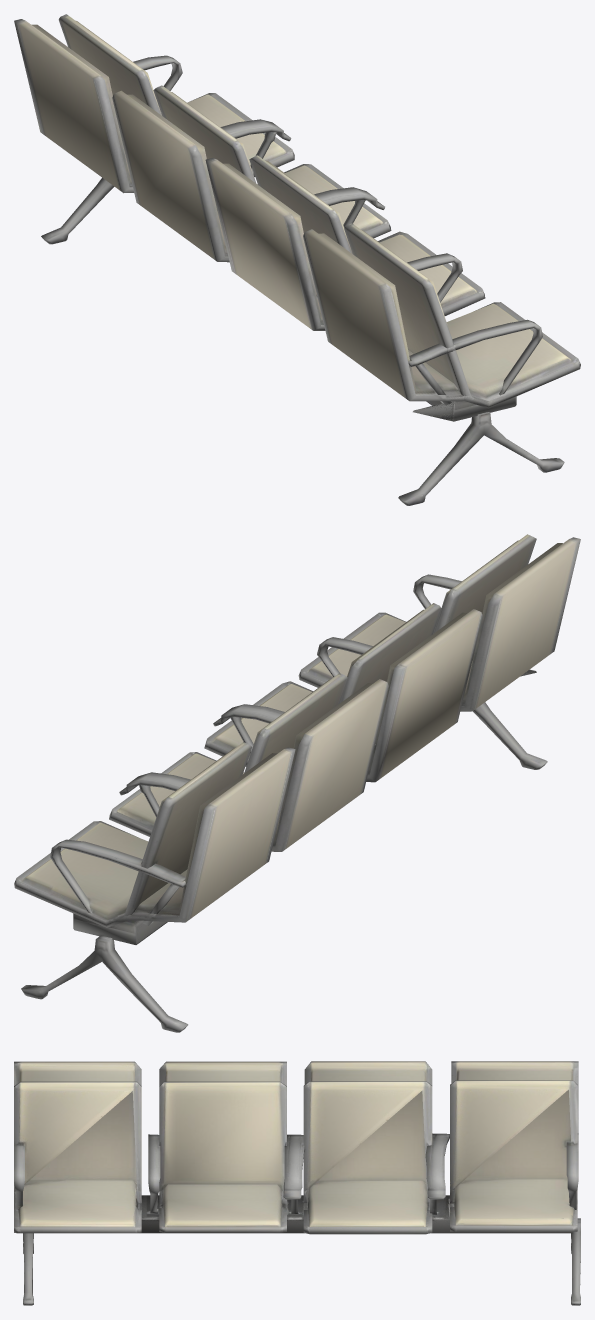
The model's file is gate-seats.glb.
3 views of the same model, one above another, from view 1: azimuth 30°, elevation 25°; view 2: azimuth 150°, elevation 25°; view 3: azimuth 270°, elevation 25° (orthographic). The views are drawn at different scales.
Visible parts, largest first — view 1: tripo_node_bc5cb187-3da9-43ca-b2db-853662c11dd2; view 2: tripo_node_bc5cb187-3da9-43ca-b2db-853662c11dd2; view 3: tripo_node_bc5cb187-3da9-43ca-b2db-853662c11dd2.
Boxes of the visible parts, x1,y1,x2,y2 form: tripo_node_bc5cb187-3da9-43ca-b2db-853662c11dd2: (14, 14, 580, 505); tripo_node_bc5cb187-3da9-43ca-b2db-853662c11dd2: (14, 534, 580, 1032); tripo_node_bc5cb187-3da9-43ca-b2db-853662c11dd2: (14, 1061, 580, 1305).
Size of the model in its own units: 0.3145 by 0.3418 by 0.998.
1 material, 1 textured.
